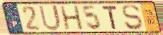2: (22, 5, 42, 32)
5: (81, 5, 102, 31)
H: (59, 5, 86, 31)
S: (121, 4, 144, 31)
T: (101, 5, 119, 30)
U: (38, 4, 63, 32)
